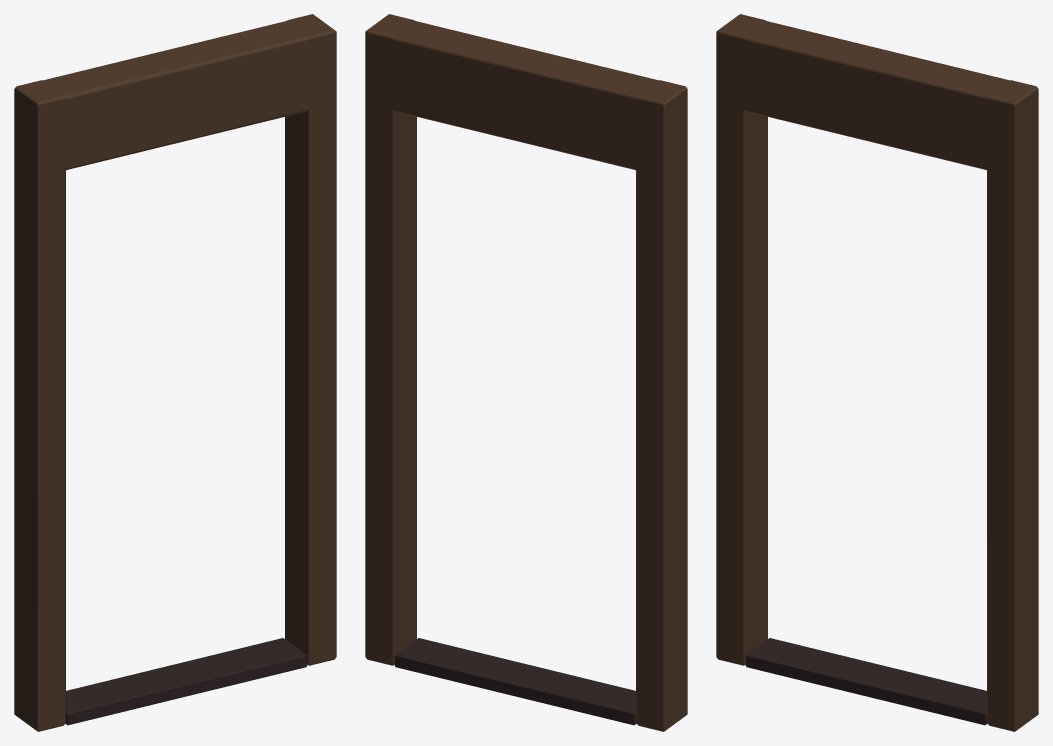
File: railcar-door-frame.3b66658f.glb
The picture shows the model from 3 angles, left to right: view 1: azimuth 30°, elevation 25°; view 2: azimuth 150°, elevation 25°; view 3: azimuth 330°, elevation 25°; orthographic projection.
Parts seen in each view (by area): view 1: body; view 2: body; view 3: body.
Part boxes in pixels (x1,y1,x2,y2): body: (14, 14, 336, 731); body: (365, 14, 687, 731); body: (716, 14, 1038, 731).
Bounding box in the file's own units: 1 × 2 × 0.14.
